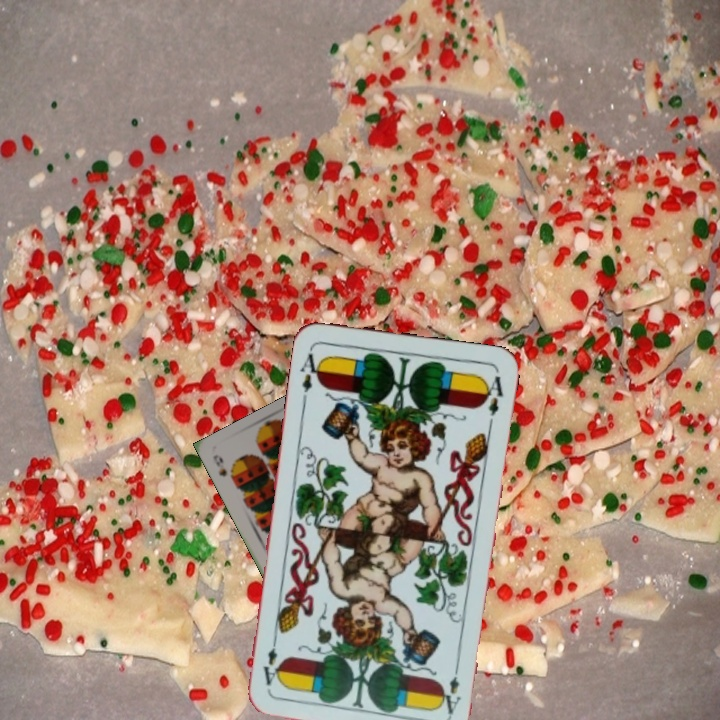EA: (436, 658, 463, 717), (296, 349, 325, 395)
S9: (209, 450, 229, 480)
